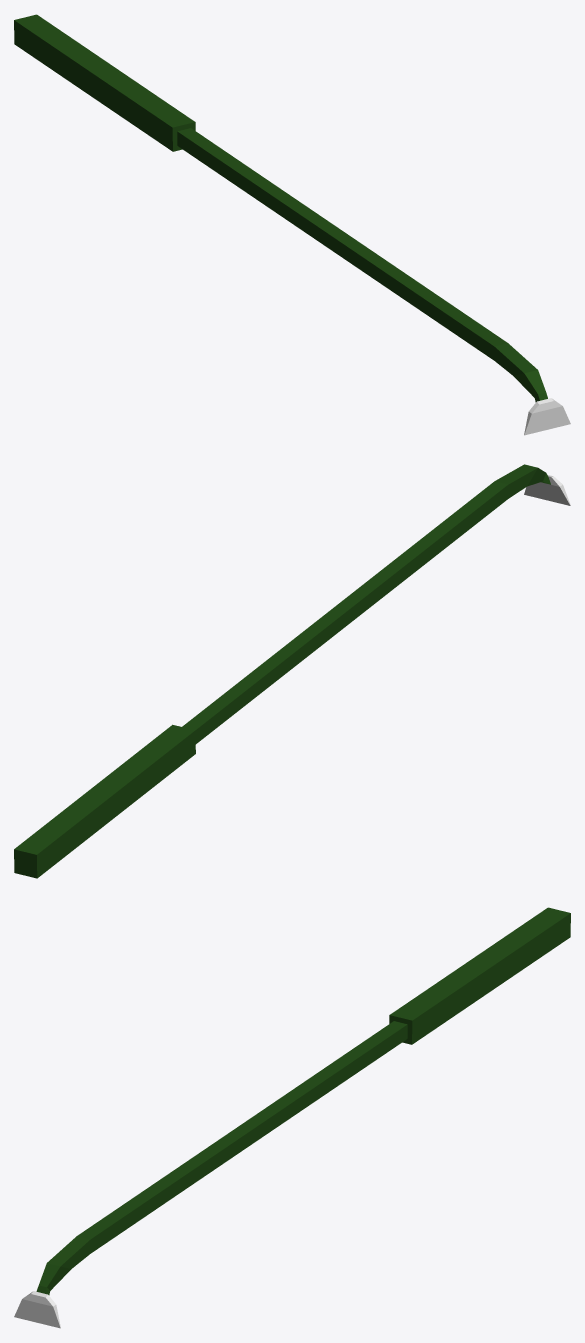
File: scraper_VR.fbx
3 views of the same model, one above another, from view 1: azimuth 30°, elevation 25°; view 2: azimuth 150°, elevation 25°; view 3: azimuth 330°, elevation 25° (orthographic).
Parts seen in each view (by area): view 1: Scrapper; view 2: Scrapper; view 3: Scrapper.
Boxes of the visible parts, bbox=[...] form: Scrapper: bbox=[14, 14, 570, 435]; Scrapper: bbox=[14, 464, 570, 878]; Scrapper: bbox=[14, 907, 570, 1328].
Size of the model in its own units: 10.2 by 10.66 by 197.
